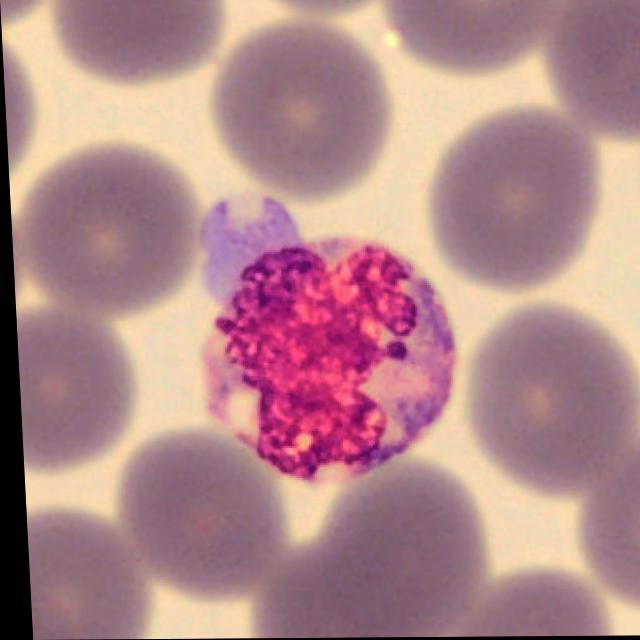Monocito: (195, 200, 455, 490)
